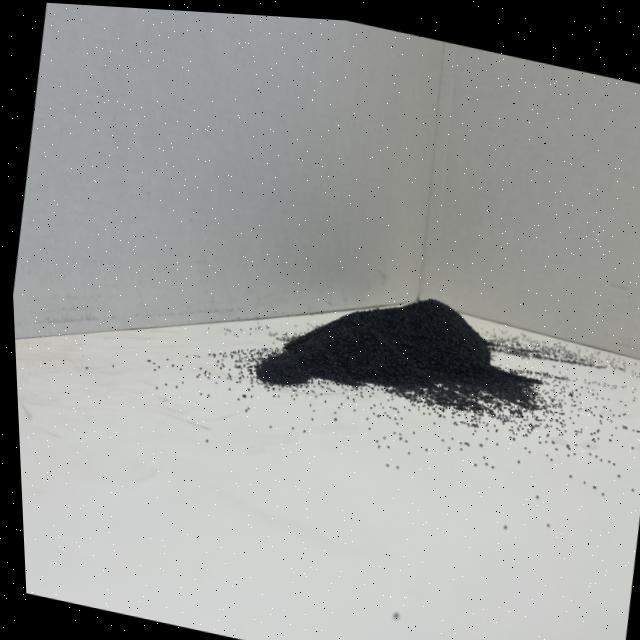Poppy Seeds: (234, 228, 561, 441)
